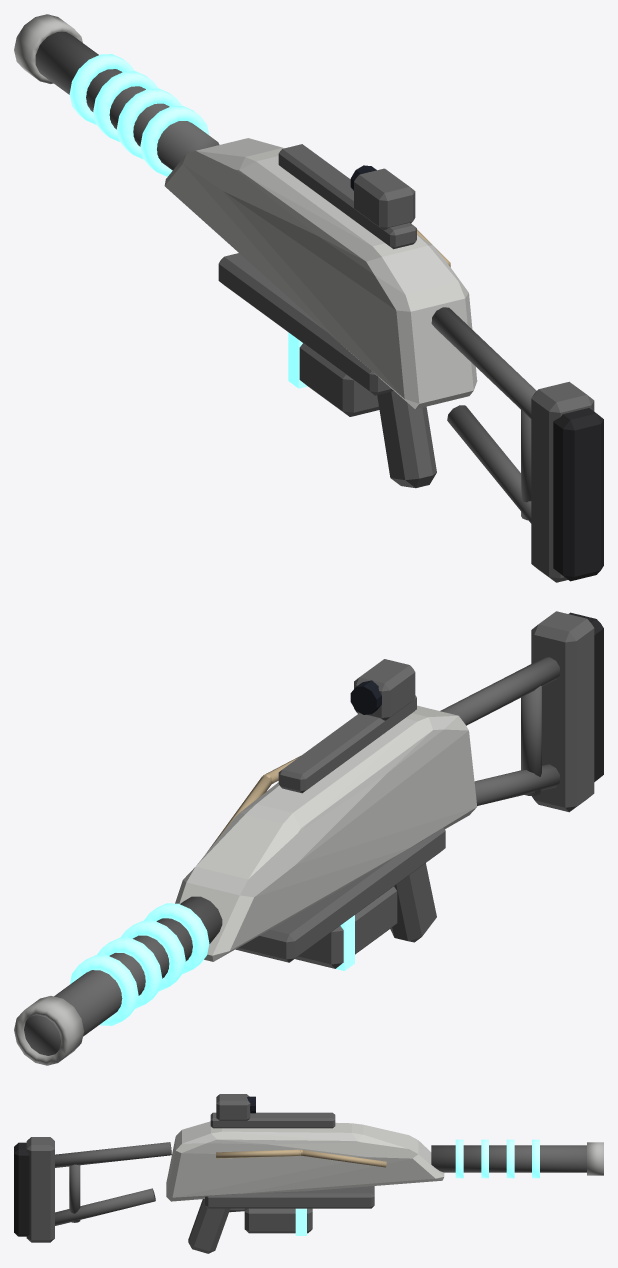
The model's file is blaster.glb.
The picture shows the model from 3 angles, top to bottom: view 1: azimuth 30°, elevation 25°; view 2: azimuth 150°, elevation 25°; view 3: azimuth 270°, elevation 25°; orthographic projection. The views are drawn at different scales.
Parts seen in each view (by area): view 1: body, coils; view 2: body, coils; view 3: body, coils.
Part boxes in pixels (x1=…): body: x1=14, y1=14, x2=603, y2=582; coils: x1=69, y1=54, x2=209, y2=176; body: x1=14, y1=611, x2=603, y2=1065; coils: x1=70, y1=903, x2=209, y2=1025; body: x1=14, y1=1094, x2=603, y2=1253; coils: x1=455, y1=1139, x2=539, y2=1178.
Bounding box in the file's own units: 0.1074 × 0.3017 × 1.04.
